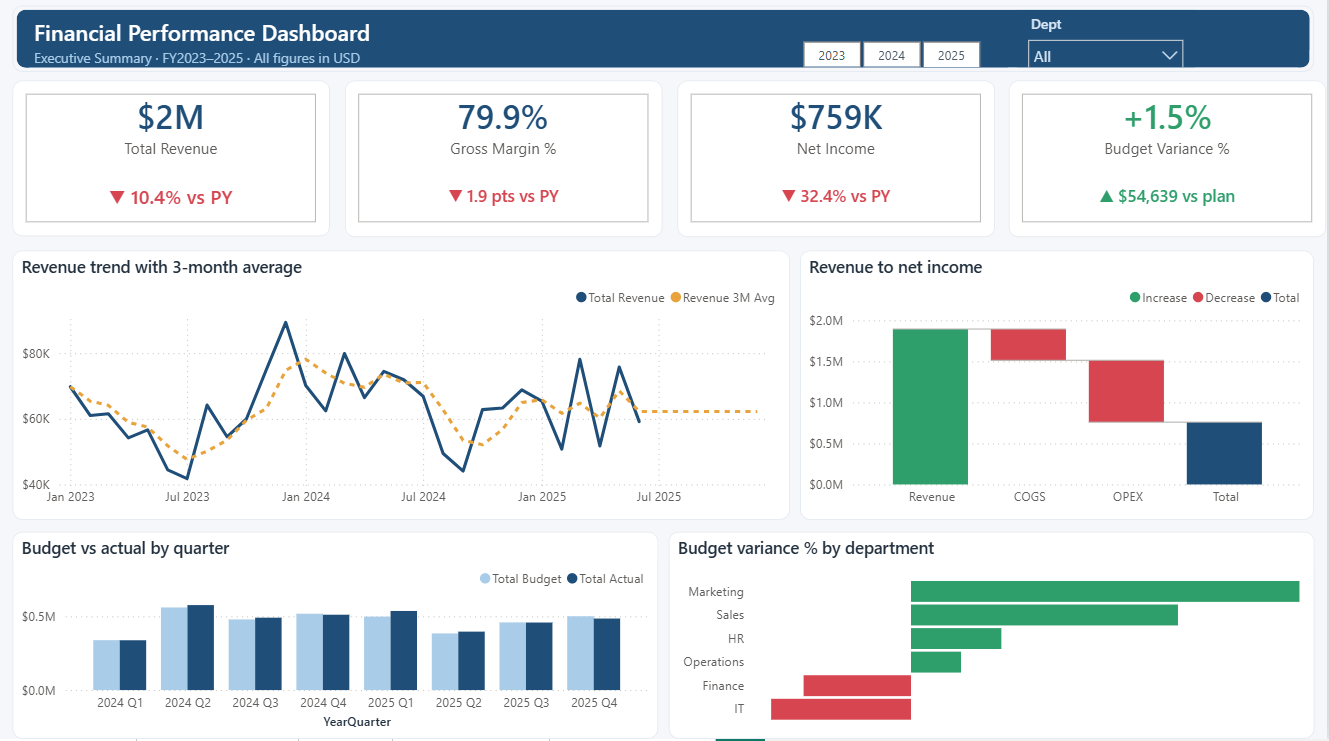

The dashboard page shown, as its layout file describes it:
{"tool":"powerbi","page":{"name":"Executive Summary","canvas":[1280,720],"ordinal":0},"visuals":[{"type":"shape","box":[12,12,1256,64],"z":0},{"type":"textbox","box":[28,18,500,44],"z":1000},{"type":"slicer","fields":{"Values":["Dim_Date.Year"]},"box":[749.2,39.8,220.9,31.6],"z":2000},{"type":"textbox","box":[28,48,560,30],"z":3000},{"type":"slicer","fields":{"Values":["Dim_Department.Dept"]},"box":[982.5,15.1,170.2,56.3],"z":4000},{"type":"cardVisual","fields":{"Data":["Fact_GL.Total Revenue"]},"box":[12.3,85,306,150],"z":5000},{"type":"cardVisual","fields":{"Data":["Fact_GL.Gross Margin %"]},"box":[333,85,306,150.9],"z":6000},{"type":"cardVisual","fields":{"Data":["Fact_GL.Net Income"]},"box":[653.6,85,306,150.9],"z":7000},{"type":"cardVisual","fields":{"Data":["Fact_Budget.Budget Variance %"]},"box":[974,85,306,150.9],"z":8000},{"type":"lineChart","title":"Revenue trend with 3-month average","fields":{"Category":["Dim_Date.MonthStart"],"Y":["Fact_GL.Total Revenue","Fact_GL.Revenue 3M Avg"]},"box":[12,248,750,260],"z":9000},{"type":"waterfallChart","title":"Revenue to net income","fields":{"Category":["Dim_Account.Category"],"Y":["Fact_GL.P&L Waterfall Value"]},"box":[772,248,496,260],"z":10000},{"type":"clusteredColumnChart","title":"Budget vs actual by quarter","fields":{"Category":["Dim_Date.YearQuarter"],"Y":["Fact_Budget.Total Budget","Fact_Budget.Total Actual"]},"box":[12,520,623,200],"z":11000},{"type":"clusteredBarChart","title":"Budget variance % by department","fields":{"Category":["Dim_Department.Dept"],"Y":["Fact_Budget.Budget Variance %"]},"box":[645,520,623,200],"z":12000}]}

Visuals, with their boxes in screenshot pixels (x1, y1, x2, y2), scaled from the page's 1280x720 canvas onto the 1329x741 screenshot:
shape: 12/12/1317/78
textbox: 29/19/548/64
slicer - Dim_Date.Year: 778/41/1007/73
textbox: 29/49/611/80
slicer - Dim_Department.Dept: 1020/16/1197/73
cardVisual - Fact_GL.Total Revenue: 13/87/330/242
cardVisual - Fact_GL.Gross Margin %: 346/87/663/243
cardVisual - Fact_GL.Net Income: 679/87/996/243
cardVisual - Fact_Budget.Budget Variance %: 1011/87/1328/243
"Revenue trend with 3-month average" lineChart: 12/255/791/523
"Revenue to net income" waterfallChart: 802/255/1317/523
"Budget vs actual by quarter" clusteredColumnChart: 12/535/659/740
"Budget variance % by department" clusteredBarChart: 670/535/1317/740
